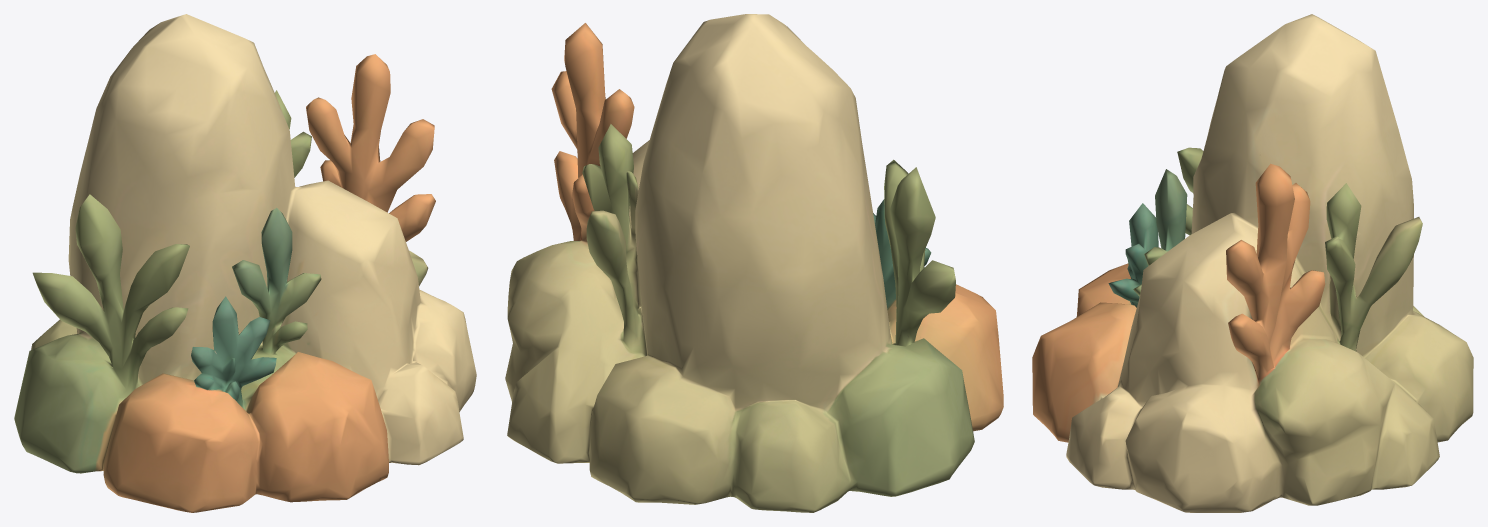
Rendered from rocas_3.glb.
3 renders of one model, left to right at view 1: azimuth 30°, elevation 25°; view 2: azimuth 150°, elevation 25°; view 3: azimuth 270°, elevation 25°, orthographic. The views are drawn at different scales.
Visible parts, largest first — view 1: tripo_node_89d03e48-69d8-4421-a7f7-5ac6be8b3d3a; view 2: tripo_node_89d03e48-69d8-4421-a7f7-5ac6be8b3d3a; view 3: tripo_node_89d03e48-69d8-4421-a7f7-5ac6be8b3d3a.
Boxes of the visible parts, left/top/right/bottom form: tripo_node_89d03e48-69d8-4421-a7f7-5ac6be8b3d3a: left=14, top=14, right=476, bottom=512; tripo_node_89d03e48-69d8-4421-a7f7-5ac6be8b3d3a: left=505, top=14, right=1003, bottom=512; tripo_node_89d03e48-69d8-4421-a7f7-5ac6be8b3d3a: left=1032, top=14, right=1473, bottom=512.
Bounding box in the file's own units: 1 × 0.9265 × 0.9413.
1 material, 1 textured.
